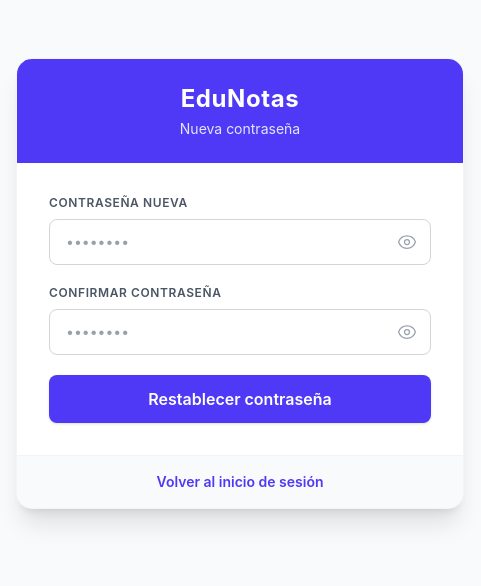
Test: ResetPasswordPage › avisa si el enlace expiro
The image size is (481, 586).
Type "nuevaClave123" into the password field labelled "Contraseña nueva" at coordinates (240, 242), box 49,218 -> 431,264
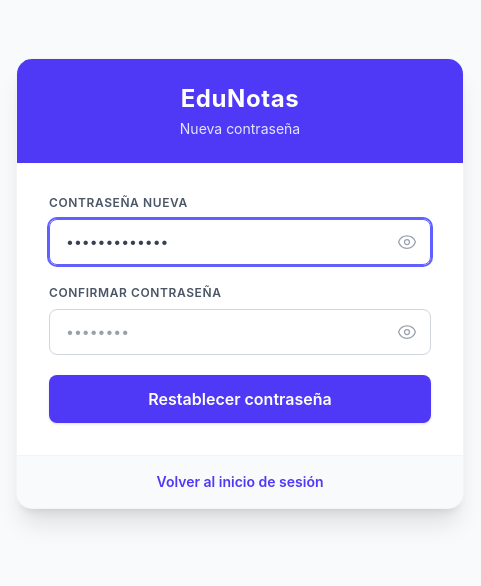
Type "nuevaClave123" into the password field labelled "Confirmar contraseña" at coordinates (240, 332), box 49,308 -> 431,354
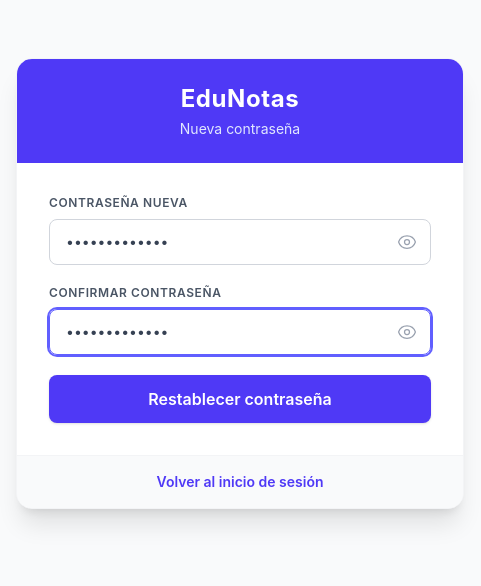
Click the button "Restablecer contraseña" at coordinates (240, 398), box 49,374 -> 431,422
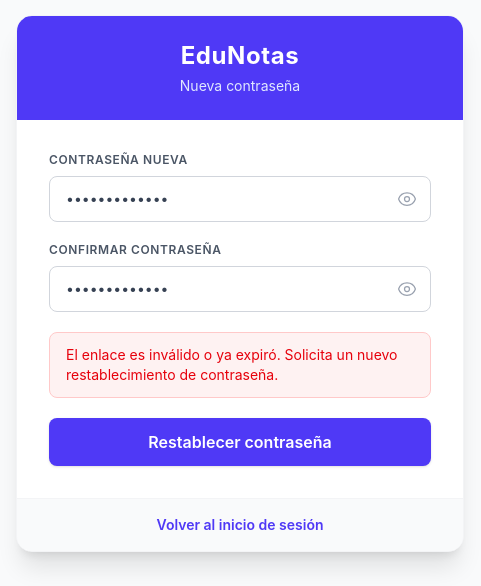
Expected: the text "El enlace es inválido o ya expiró" is shown, 66,346 -> 398,382
